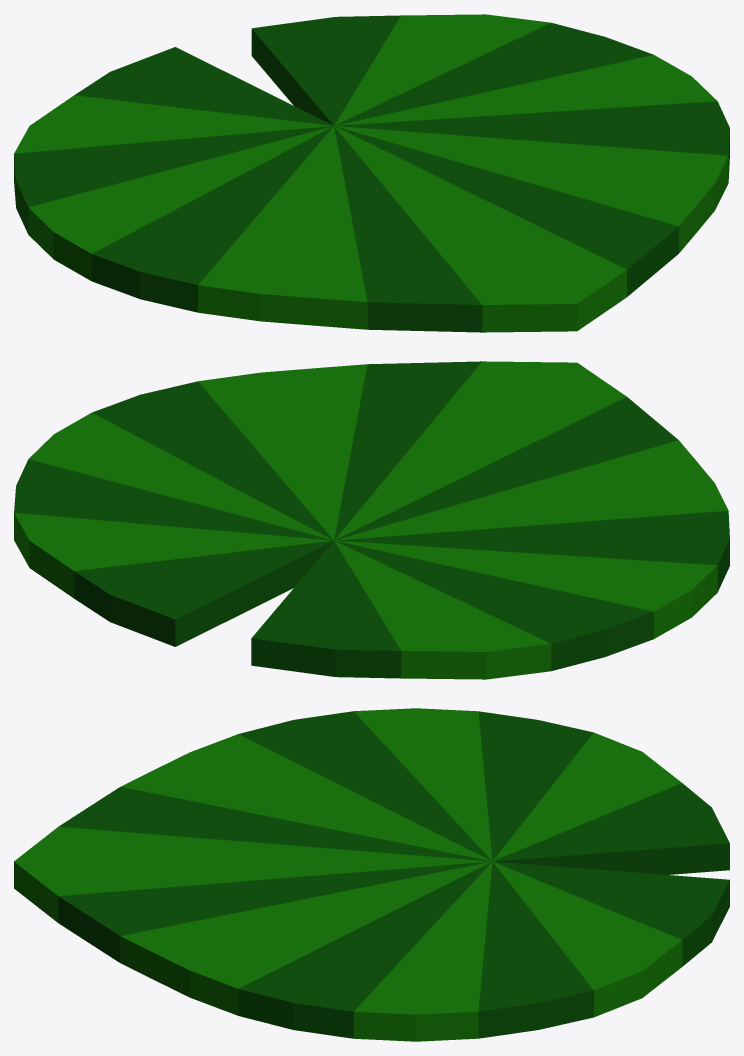
The model's file is leaf.fbx.
3 views of the same model, one above another, from view 1: azimuth 30°, elevation 25°; view 2: azimuth 150°, elevation 25°; view 3: azimuth 270°, elevation 25° (orthographic).
Parts seen in each view (by area): view 1: Cylinder.001; view 2: Cylinder.001; view 3: Cylinder.001.
Part boxes in pixels (<box>): Cylinder.001: <box>14,14,729,332</box>; Cylinder.001: <box>14,361,729,679</box>; Cylinder.001: <box>14,708,729,1041</box>.
Bounding box in the file's own units: 4.9 × 0.2016 × 4.84.
